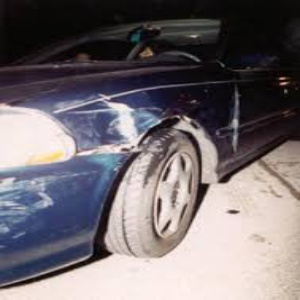bumper_scratch: (1, 172, 105, 271)
